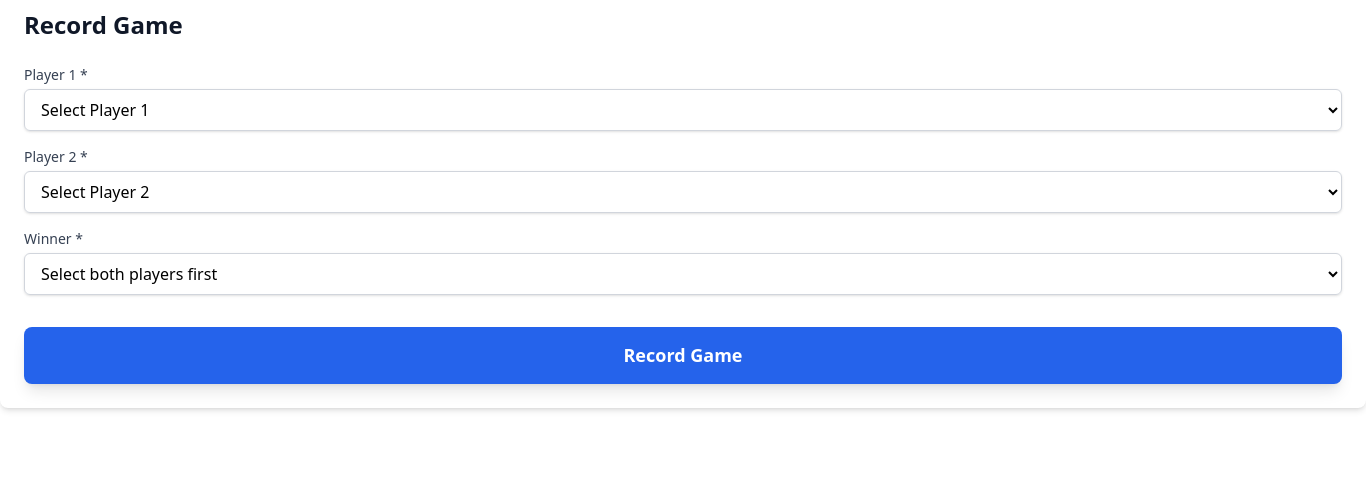
Test: AddGameForm › shows validation error when no players are selected
Click the button "Record Game": (683, 355) [24,327,1342,384]
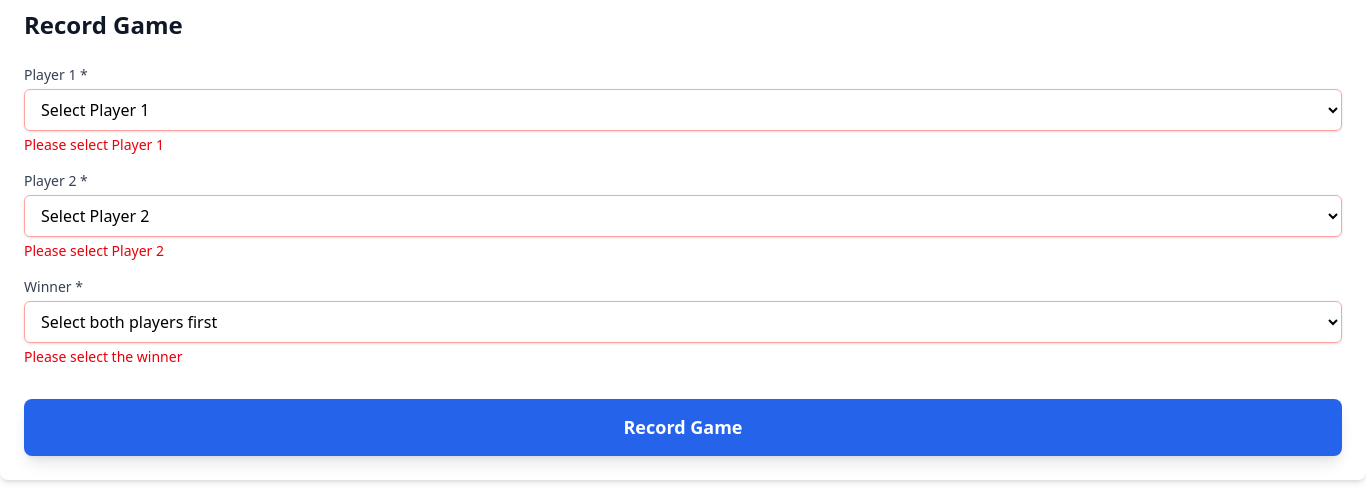
Expected: the text "Please select Player 1" is shown, [24,135,164,154]
Expected: the text "Please select Player 2" is shown, [24,241,164,260]
Expected: the text "Please select the winner" is shown, [24,347,182,366]
